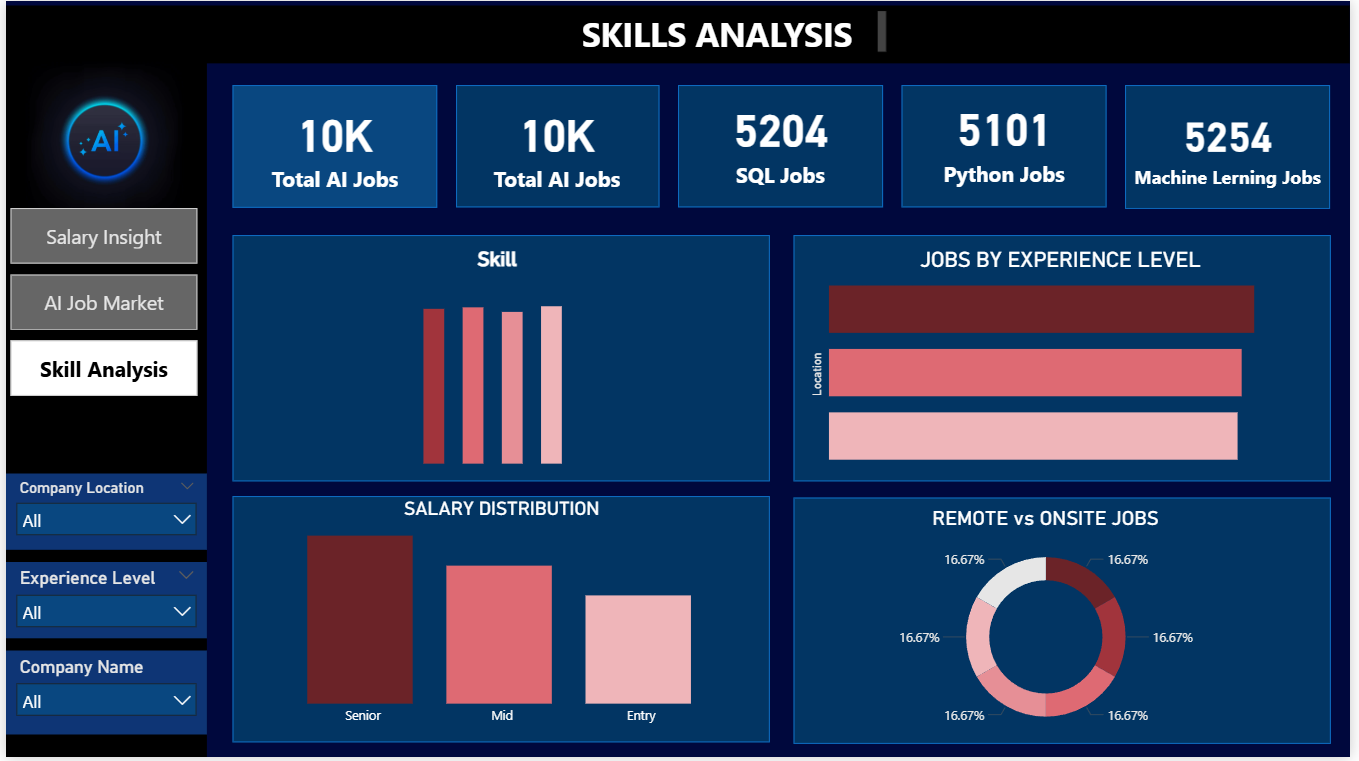

The page's visual inventory and layout, read from the dashboard file:
{"tool":"powerbi","page":{"name":"Skill Analysis","canvas":[1280,720],"ordinal":2},"visuals":[{"type":"shape","box":[0,4.1,1279.8,55.1],"z":0},{"type":"shape","box":[0,55.1,191.5,665.4],"z":1000},{"type":"textbox","box":[542.8,4.1,300.3,51],"z":2000},{"type":"shape","box":[215,79.9,195,117],"z":3000},{"type":"card","fields":{"Values":["clean_ai_jobs.Cloud Jobs"]},"box":[611.4,71.4,231.4,131.4],"z":4000},{"type":"shape","box":[215,222.6,511.8,234.7],"z":5000},{"type":"shape","box":[749.5,222.6,511.8,234.7],"z":6000},{"type":"clusteredColumnChart","title":"Skill ","fields":{"Y":["clean_ai_jobs.SQL Jobs","clean_ai_jobs.Machine Lerning Jobs","clean_ai_jobs.Python Jobs","clean_ai_jobs.Cloud Jobs"]},"box":[215,234.7,504.2,212],"z":7000},{"type":"barChart","title":"JOBS BY EXPERIENCE LEVEL","fields":{"Category":["clean_ai_jobs.education_level"],"Y":["CountNonNull(clean_ai_jobs.job_title)"]},"box":[761.6,234.7,486.1,210.5],"z":8000},{"type":"shape","box":[215,470.9,511.8,234.7],"z":9000},{"type":"shape","box":[749.5,472.4,511.8,234.7],"z":10000},{"type":"clusteredColumnChart","title":"SALARY DISTRIBUTION","fields":{"Category":["clean_ai_jobs.experience_level"],"Y":["Avg(clean_ai_jobs.salary)"]},"box":[228.6,472.4,487,226],"z":11000},{"type":"donutChart","title":"REMOTE vs ONSITE JOBS","fields":{"Y":["CountNonNull(clean_jobs_Ready.job_title)"],"Category":["clean_ai_jobs.job_title"]},"box":[718.6,481.4,542.9,225.7],"z":12000},{"type":"slicer","fields":{"Values":["clean_salary.company_location"]},"box":[0,450,191.4,72.9],"z":13000},{"type":"slicer","fields":{"Values":["clean_salary.experience_level"]},"box":[0,534.3,191.4,72.9],"z":14000},{"type":"slicer","fields":{"Values":["clean_jobs_Ready.company_name"]},"box":[0,618.6,191.4,80],"z":15000},{"type":"shape","box":[427.9,80.1,193.8,116.6],"z":16000},{"type":"shape","box":[639.6,80.1,195.3,116.6],"z":17000},{"type":"shape","box":[852.8,80.1,195.3,116.6],"z":18000},{"type":"shape","box":[1066,79.4,195.3,118.1],"z":19000},{"type":"card","fields":{"Values":["clean_ai_jobs.Total AI Jobs"]},"box":[408.6,71.4,231.4,131.4],"z":20000},{"type":"card","fields":{"Values":["clean_ai_jobs.Total AI Jobs"]},"box":[197.1,71.4,231.4,131.4],"z":21000},{"type":"card","fields":{"Values":["clean_ai_jobs.Python Jobs"]},"box":[834.3,65.1,231.7,131.7],"z":22000},{"type":"card","fields":{"Values":["clean_ai_jobs.Machine Lerning Jobs"]},"box":[1047.8,71.2,231.7,131.7],"z":23000},{"type":"image","box":[10.6,56,168.1,154.4],"z":24000},{"type":"card","fields":{"Values":["clean_ai_jobs.SQL Jobs"]},"box":[621.4,67.1,231.4,131.4],"z":25000},{"type":"pageNavigator","box":[4.3,197.1,178.6,181.4],"z":25001}]}

Visuals, with their boxes in screenshot pixels (x1, y1, x2, y2), scaled from the page's 1280x720 canvas onto the 1359x761 screenshot:
shape: box(0, 4, 1358, 63)
shape: box(0, 58, 203, 760)
textbox: box(576, 4, 895, 58)
shape: box(228, 84, 435, 208)
card - clean_ai_jobs.Cloud Jobs: box(649, 75, 895, 214)
shape: box(228, 235, 772, 483)
shape: box(796, 235, 1339, 483)
"Skill " clusteredColumnChart: box(228, 248, 764, 472)
"JOBS BY EXPERIENCE LEVEL" barChart: box(809, 248, 1325, 471)
shape: box(228, 498, 772, 746)
shape: box(796, 499, 1339, 747)
"SALARY DISTRIBUTION" clusteredColumnChart: box(243, 499, 760, 738)
"REMOTE vs ONSITE JOBS" donutChart: box(763, 509, 1339, 747)
slicer - clean_salary.company_location: box(0, 476, 203, 553)
slicer - clean_salary.experience_level: box(0, 565, 203, 642)
slicer - clean_jobs_Ready.company_name: box(0, 654, 203, 738)
shape: box(454, 85, 660, 208)
shape: box(679, 85, 886, 208)
shape: box(905, 85, 1113, 208)
shape: box(1132, 84, 1339, 209)
card - clean_ai_jobs.Total AI Jobs: box(434, 75, 680, 214)
card - clean_ai_jobs.Total AI Jobs: box(209, 75, 455, 214)
card - clean_ai_jobs.Python Jobs: box(886, 69, 1132, 208)
card - clean_ai_jobs.Machine Lerning Jobs: box(1112, 75, 1358, 214)
image: box(11, 59, 190, 222)
card - clean_ai_jobs.SQL Jobs: box(660, 71, 905, 210)
pageNavigator: box(5, 208, 194, 400)
